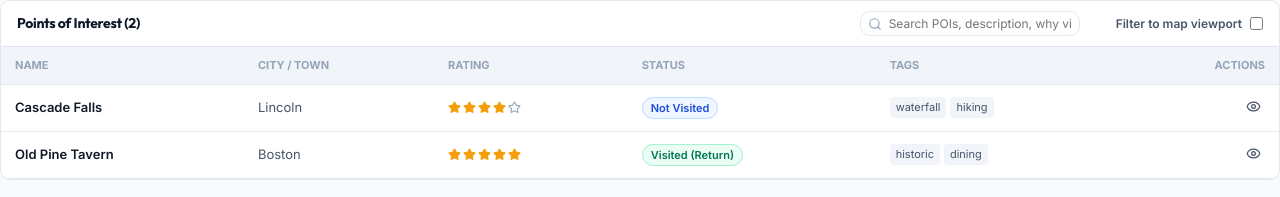
POITable Search & Column Toggle (T-029 / REQ-CTX-025, REQ-CTX-037) › filters table results when search term matches exclusively in description
The image size is (1280, 197).
Expected: the text "Cascade Falls" is shown, [15,99,102,115]
Expected: the text "Old Pine Tavern" is shown, [15,146,114,162]
// "glacial" is only in Cascade Falls description
In the field with test id "poi-table-search-input": point(970, 24) [860,11,1080,36], type "glacial"
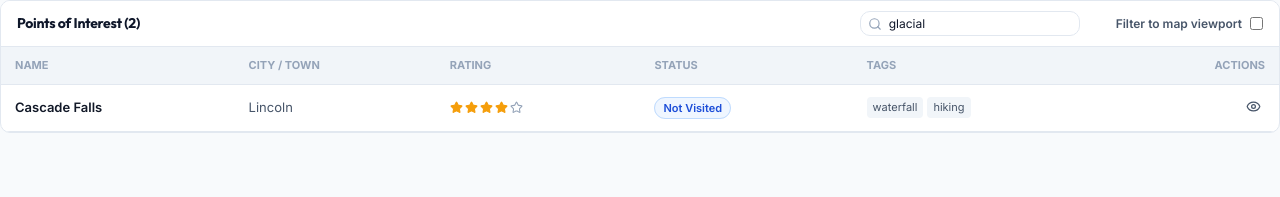
Expected: the text "Cascade Falls" is shown, [15,99,102,115]
Result: the text "Old Pine Tavern" is gone
